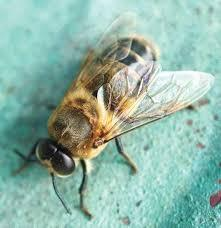worker-bee: (15, 14, 213, 217)
